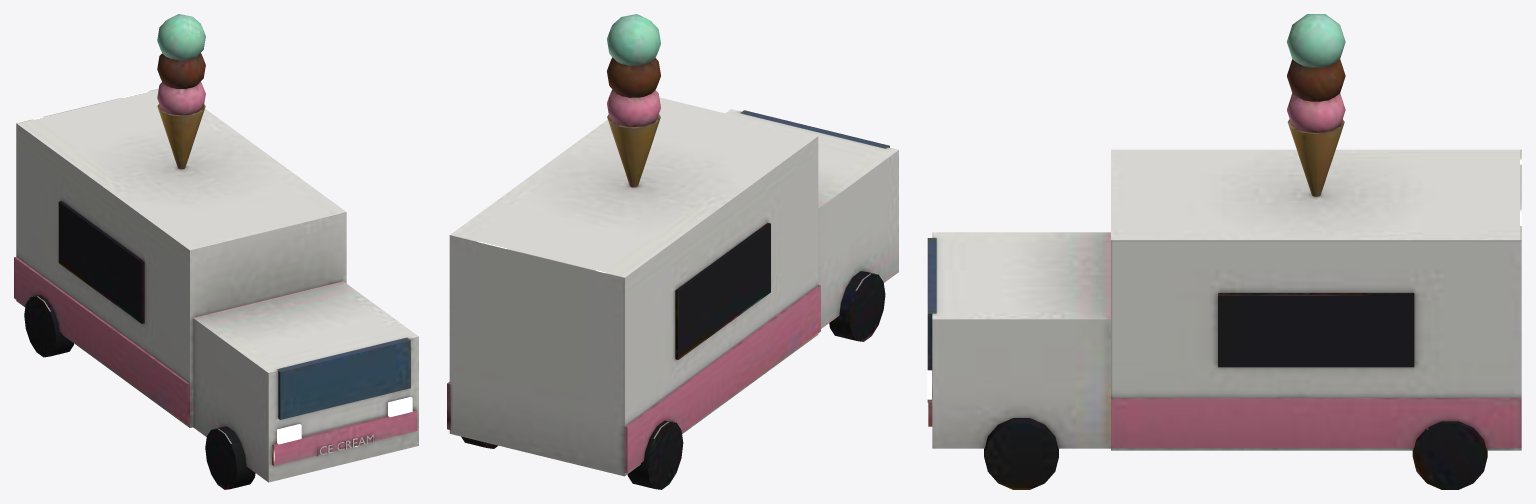
Rendered from camion_helados.glb.
3 renders of one model, left to right at view 1: azimuth 30°, elevation 25°; view 2: azimuth 150°, elevation 25°; view 3: azimuth 270°, elevation 25°, orthographic. The views are drawn at different scales.
Visible parts, largest first — view 1: camion_helados; view 2: camion_helados; view 3: camion_helados.
Boxes of the visible parts, left/top/right/bottom form: camion_helados: left=14, top=14, right=418, bottom=489; camion_helados: left=447, top=14, right=898, bottom=489; camion_helados: left=927, top=14, right=1521, bottom=489.
Size of the model in its own units: 2.6 by 5.26 by 6.66.
Materials: 1 (1 with a texture image).
